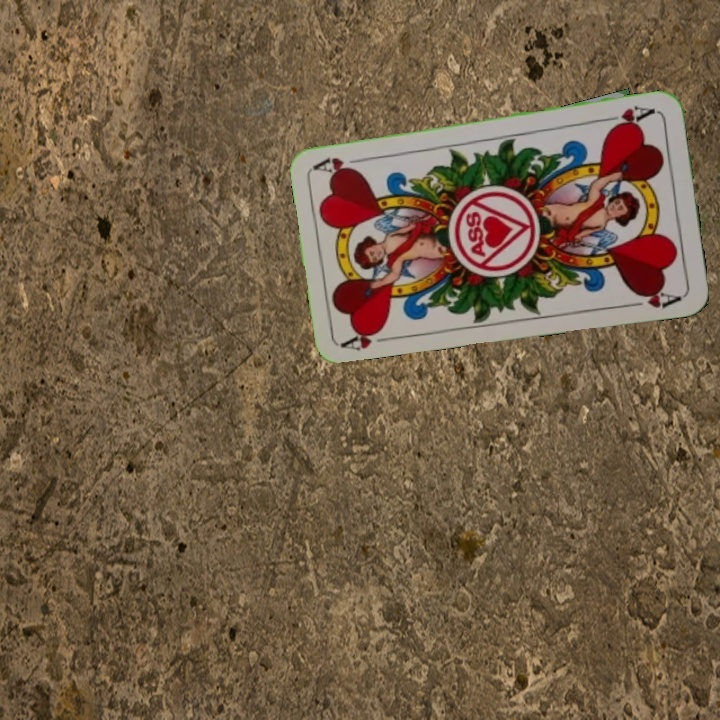HA: (337, 321, 397, 353), (600, 101, 658, 131)
